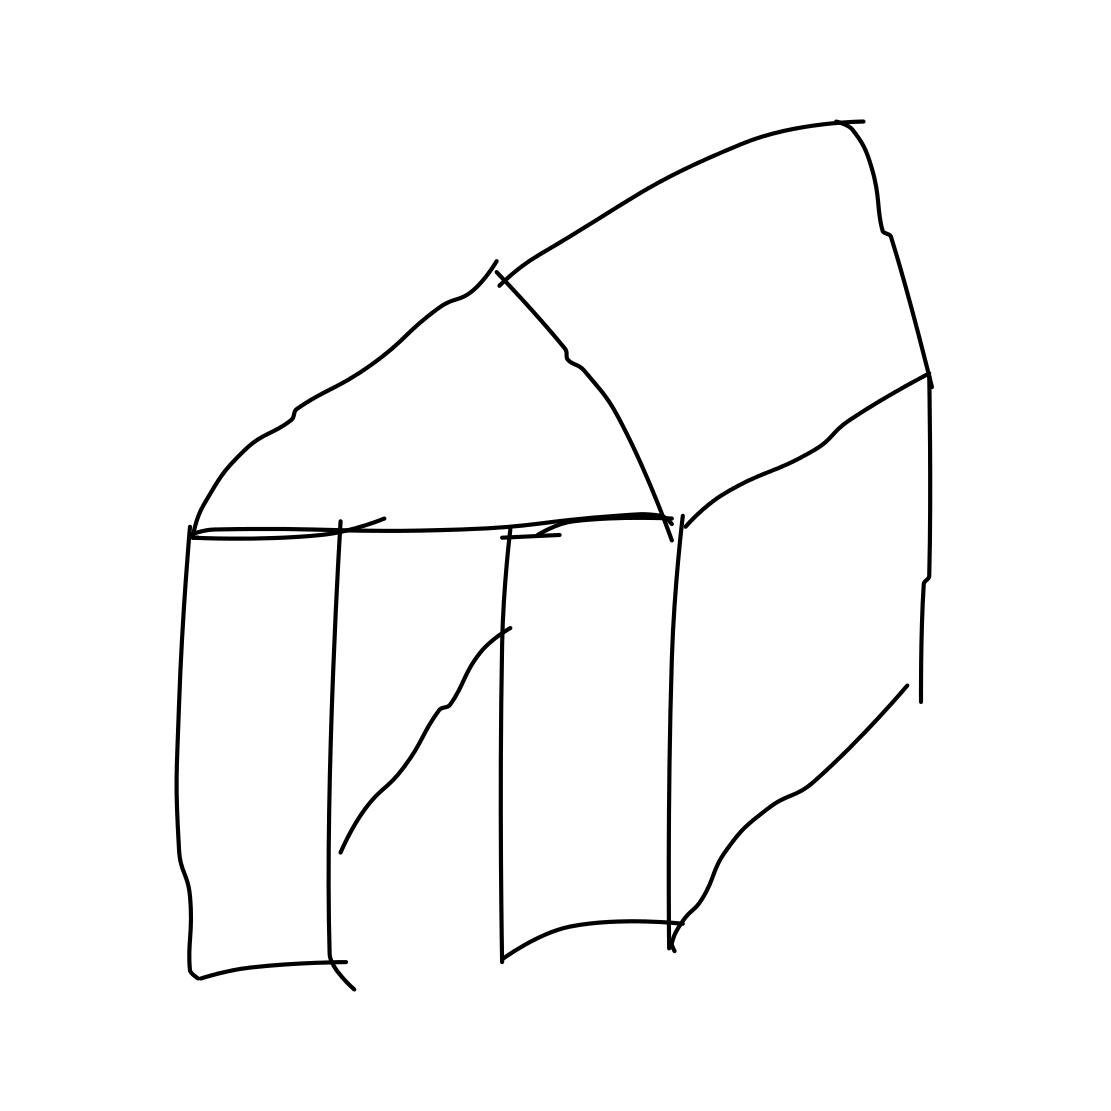House: (138, 108, 1002, 994)
